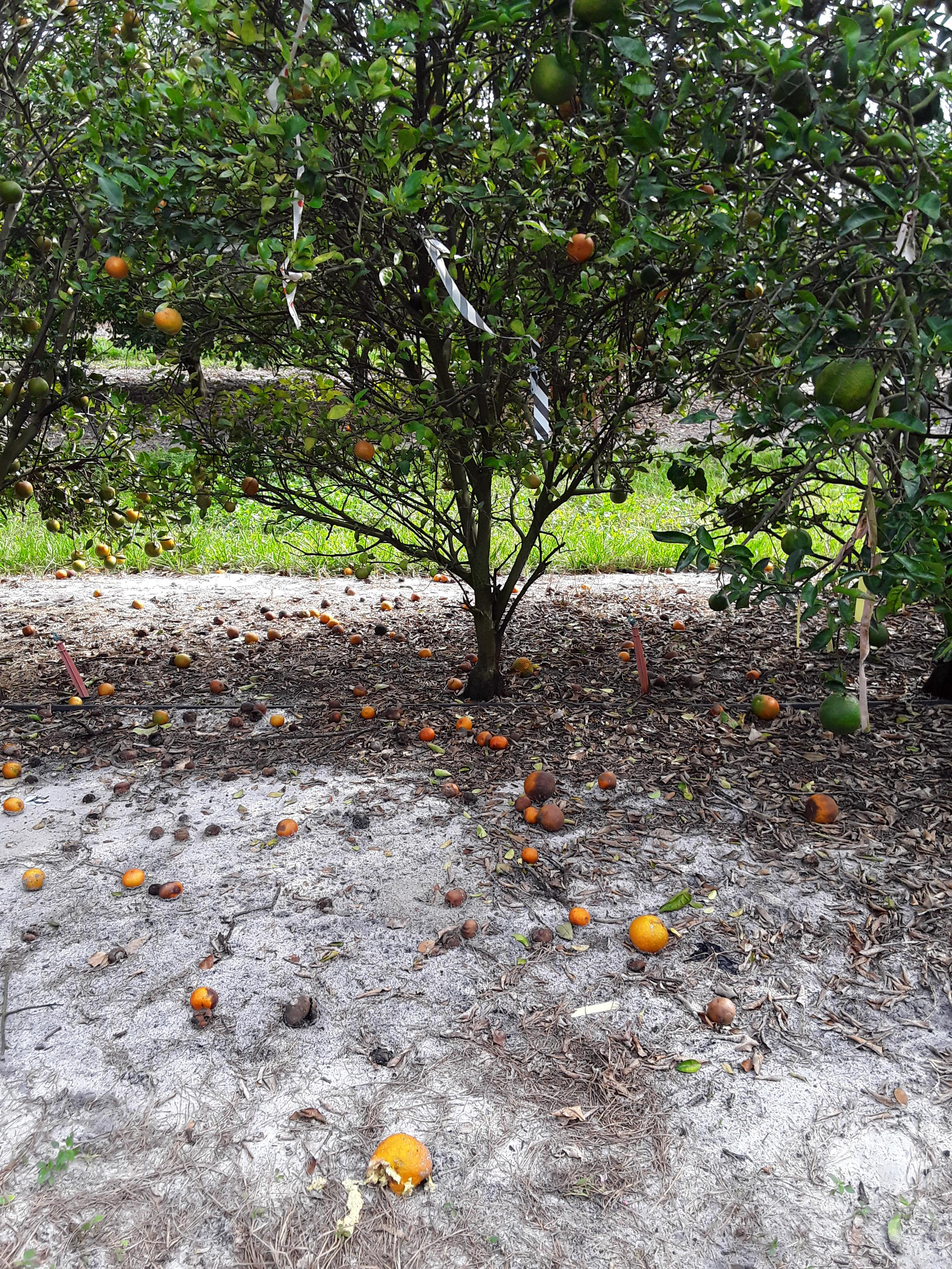fruit_on_ground: (812, 356, 879, 415), (830, 38, 888, 94), (529, 52, 578, 105), (817, 690, 868, 735), (771, 68, 817, 117), (900, 82, 941, 126), (570, 0, 622, 26), (566, 231, 595, 265), (773, 384, 805, 414), (780, 528, 814, 556), (552, 89, 582, 119), (154, 305, 183, 336), (529, 142, 558, 171), (290, 76, 315, 104), (105, 255, 129, 280), (0, 179, 23, 204), (866, 624, 890, 647), (639, 264, 662, 287), (707, 593, 733, 613), (632, 325, 654, 347), (353, 440, 376, 461), (28, 377, 50, 398), (744, 206, 765, 227), (609, 482, 628, 505), (241, 476, 260, 496), (745, 282, 764, 301), (22, 318, 42, 336), (747, 332, 767, 350), (3, 383, 26, 398), (144, 539, 162, 558), (123, 10, 141, 29), (17, 16, 35, 35), (15, 481, 33, 498), (152, 198, 169, 216), (59, 0, 78, 16), (191, 464, 207, 482), (524, 474, 542, 490), (52, 486, 70, 502), (107, 512, 125, 528), (36, 236, 52, 254), (195, 494, 212, 510), (697, 184, 715, 199), (125, 508, 141, 524), (136, 62, 152, 78), (5, 458, 21, 473), (100, 486, 116, 501), (159, 537, 175, 552), (135, 492, 152, 505), (46, 519, 61, 533), (95, 544, 110, 558), (59, 65, 74, 79), (224, 499, 237, 513), (103, 556, 117, 569), (355, 568, 370, 580), (72, 560, 86, 572), (107, 26, 120, 38), (70, 549, 84, 560), (114, 552, 125, 565), (84, 493, 94, 503), (80, 395, 89, 405)
fruit_on_tree: (364, 1132, 435, 1198), (628, 914, 670, 954), (284, 994, 319, 1028), (803, 792, 840, 824), (523, 770, 556, 802), (707, 996, 737, 1027), (538, 802, 568, 832), (750, 693, 781, 721), (191, 986, 219, 1010), (21, 867, 47, 892), (513, 656, 537, 679), (444, 886, 468, 909), (159, 881, 184, 901), (568, 906, 591, 927), (122, 868, 145, 888), (597, 771, 618, 791), (3, 797, 25, 816), (276, 818, 298, 837), (461, 918, 480, 940), (191, 1010, 213, 1029), (2, 761, 22, 780), (441, 781, 460, 799), (514, 794, 531, 813), (523, 806, 540, 825), (488, 735, 509, 750), (352, 813, 370, 830), (521, 847, 539, 864), (2, 742, 22, 756), (317, 895, 333, 912), (173, 653, 191, 668), (446, 677, 464, 692), (203, 823, 222, 837), (419, 727, 435, 743), (209, 679, 226, 694), (152, 710, 169, 725), (476, 731, 493, 746), (461, 792, 478, 807), (149, 825, 164, 841), (744, 668, 761, 682), (455, 717, 472, 731), (173, 828, 190, 842), (113, 782, 131, 795), (149, 826, 164, 841), (182, 710, 198, 724), (98, 683, 115, 696), (261, 766, 278, 779), (270, 713, 285, 727), (148, 732, 163, 746), (119, 749, 138, 760), (244, 632, 260, 645), (228, 716, 244, 729), (361, 706, 375, 720), (396, 731, 410, 745), (385, 709, 402, 720), (374, 623, 388, 636), (672, 619, 687, 631), (22, 625, 37, 637), (352, 685, 367, 697), (252, 702, 267, 714), (663, 650, 680, 660), (149, 883, 162, 896), (240, 701, 254, 713), (710, 704, 724, 716), (249, 710, 263, 722), (28, 756, 42, 768), (268, 629, 283, 640), (24, 774, 39, 785), (620, 640, 636, 650), (227, 627, 240, 639), (350, 633, 363, 645), (459, 661, 472, 673), (328, 710, 341, 722), (161, 757, 174, 769), (393, 632, 407, 643), (418, 648, 432, 659), (327, 699, 341, 710), (68, 697, 83, 707), (37, 709, 52, 719), (380, 600, 393, 611), (618, 651, 631, 662), (465, 653, 478, 664), (131, 599, 145, 609), (319, 612, 333, 622), (762, 561, 774, 572), (410, 591, 422, 602), (320, 597, 331, 609), (233, 650, 245, 661), (676, 586, 689, 596), (278, 609, 291, 619), (82, 794, 95, 804), (331, 625, 345, 634), (56, 570, 68, 580), (264, 611, 276, 621), (213, 616, 225, 626), (328, 618, 340, 628), (664, 566, 676, 575), (441, 573, 453, 582), (509, 584, 519, 594), (310, 608, 320, 618), (343, 567, 354, 576), (93, 589, 104, 598), (299, 610, 310, 619), (255, 645, 266, 654), (581, 582, 590, 591), (706, 562, 716, 570), (67, 570, 77, 578), (347, 589, 357, 597), (260, 606, 270, 614), (215, 569, 227, 575), (433, 573, 441, 582), (460, 603, 469, 611), (344, 585, 351, 593), (292, 610, 299, 618), (388, 631, 396, 638), (248, 648, 255, 656), (398, 577, 405, 583), (359, 596, 365, 603)
